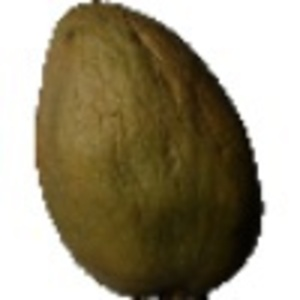mamão: (18, 2, 271, 292)
